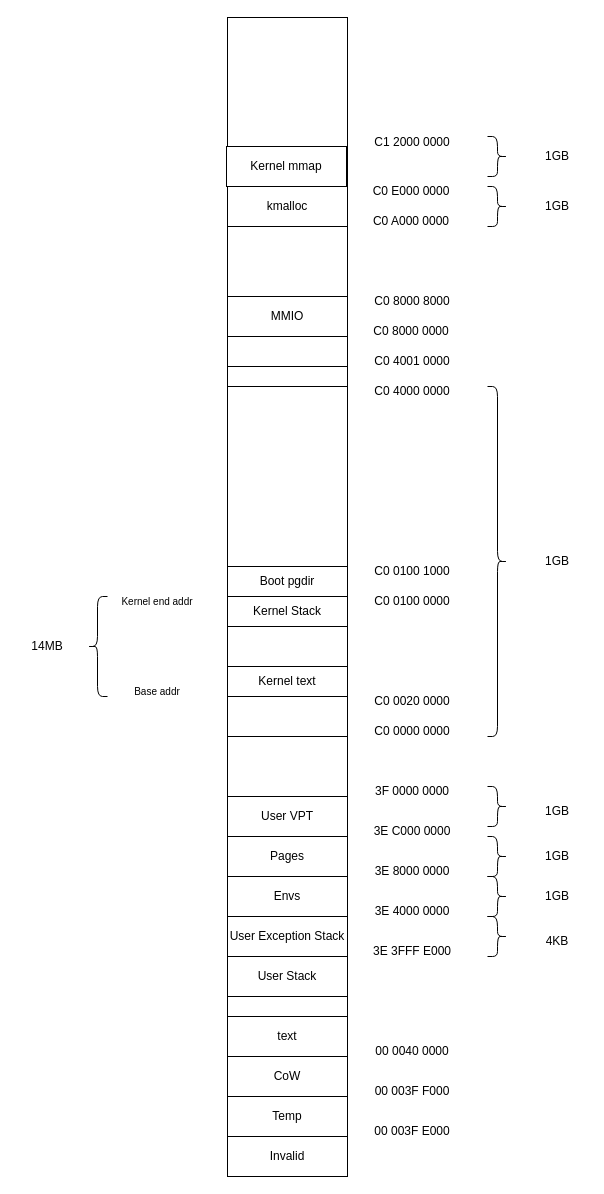
Image size: 604x1194. Some labels were removed from this diagram. Each missing label, with the centre of its shape:
"DTB" goes at [287,376].
"Gap" goes at [287,766].
